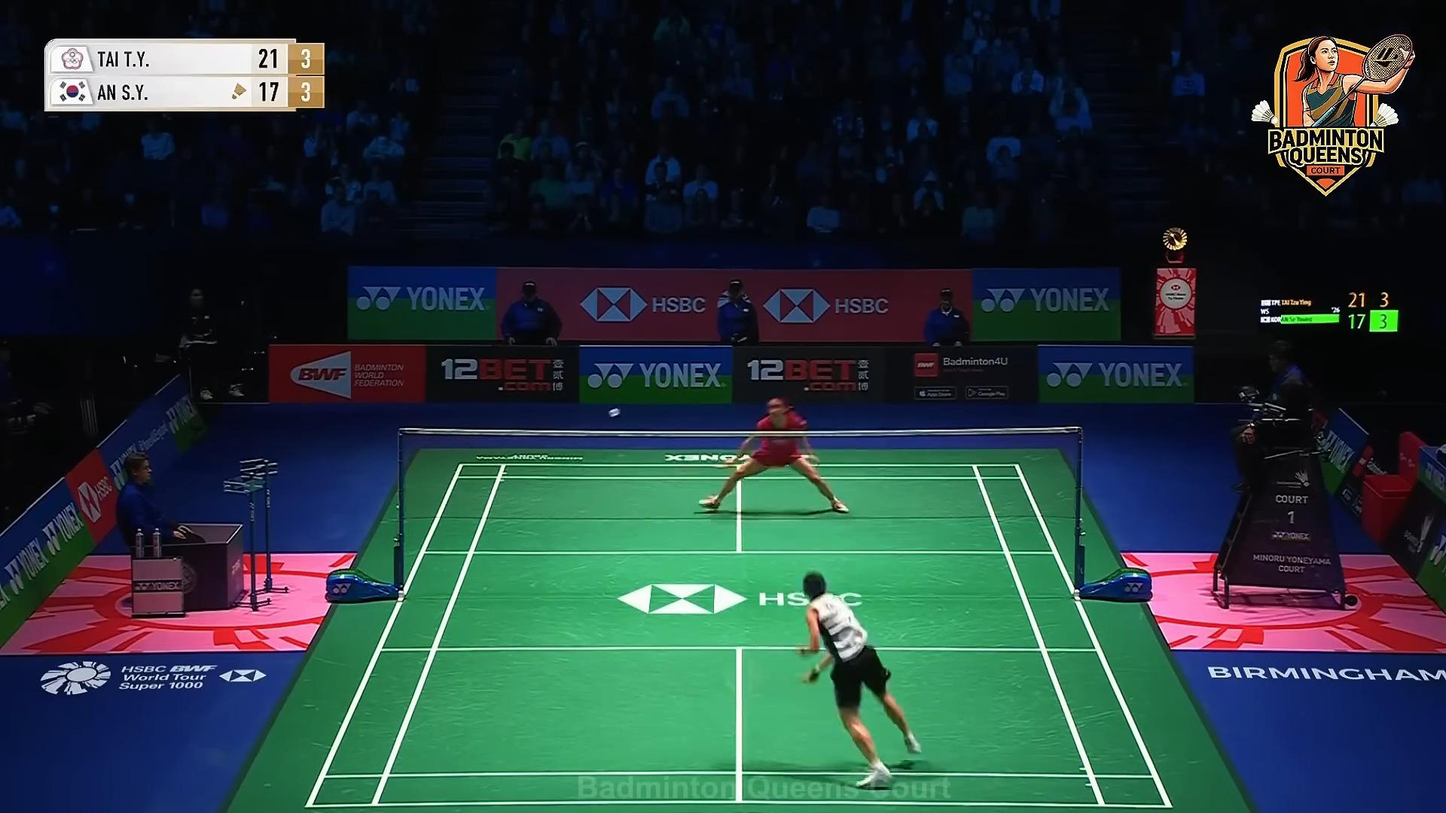shuttlecock: (609, 406, 620, 419)
